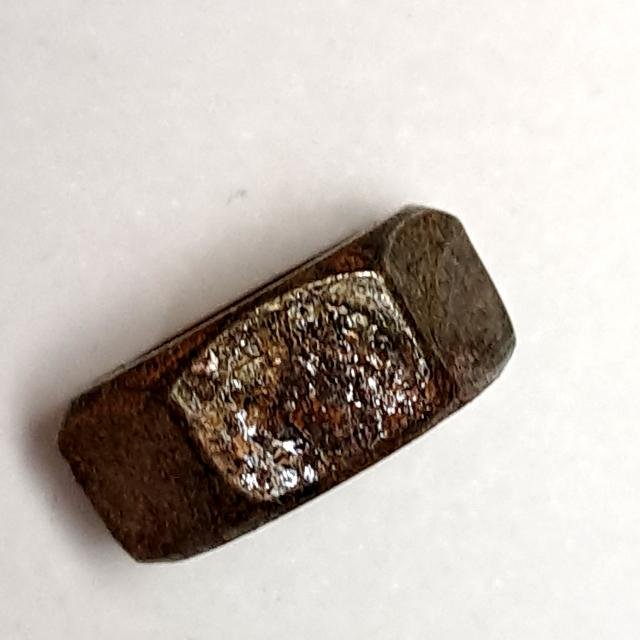Side_Rust: (42, 194, 530, 576)
